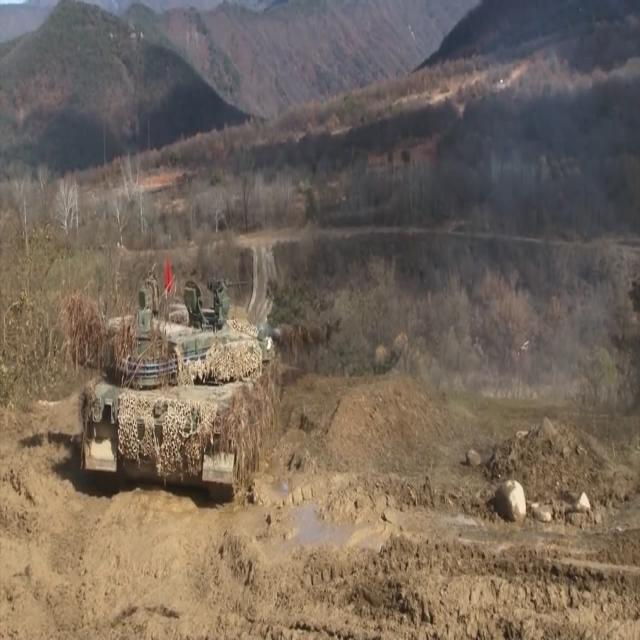korea tank: (65, 260, 332, 506)
